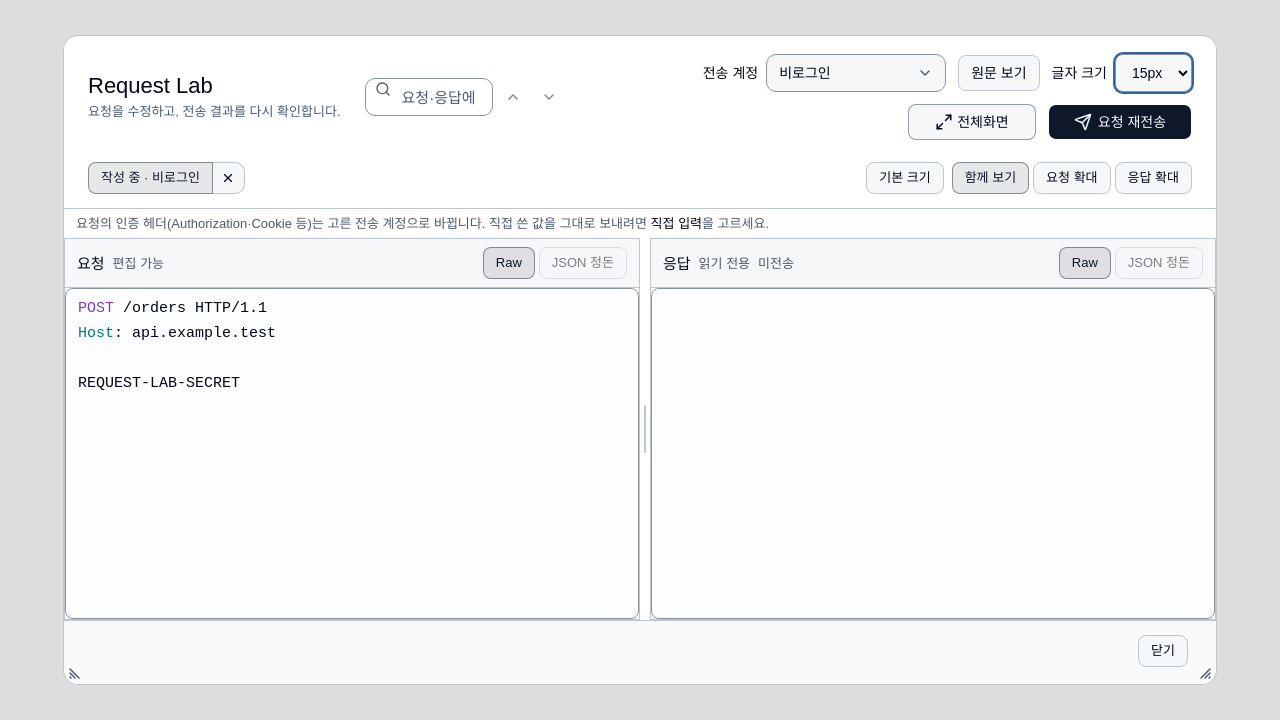
RequestLabDialog › keeps the request untouched and sends credentialMode RAW in 직접 입력 mode
Expected: the text "고른 전송 계정으로 바뀝니다" is shown, left=76, top=216, right=651, bottom=231
Click the dropdown named "전송 계정" at (856, 73), box left=766, top=54, right=946, bottom=92
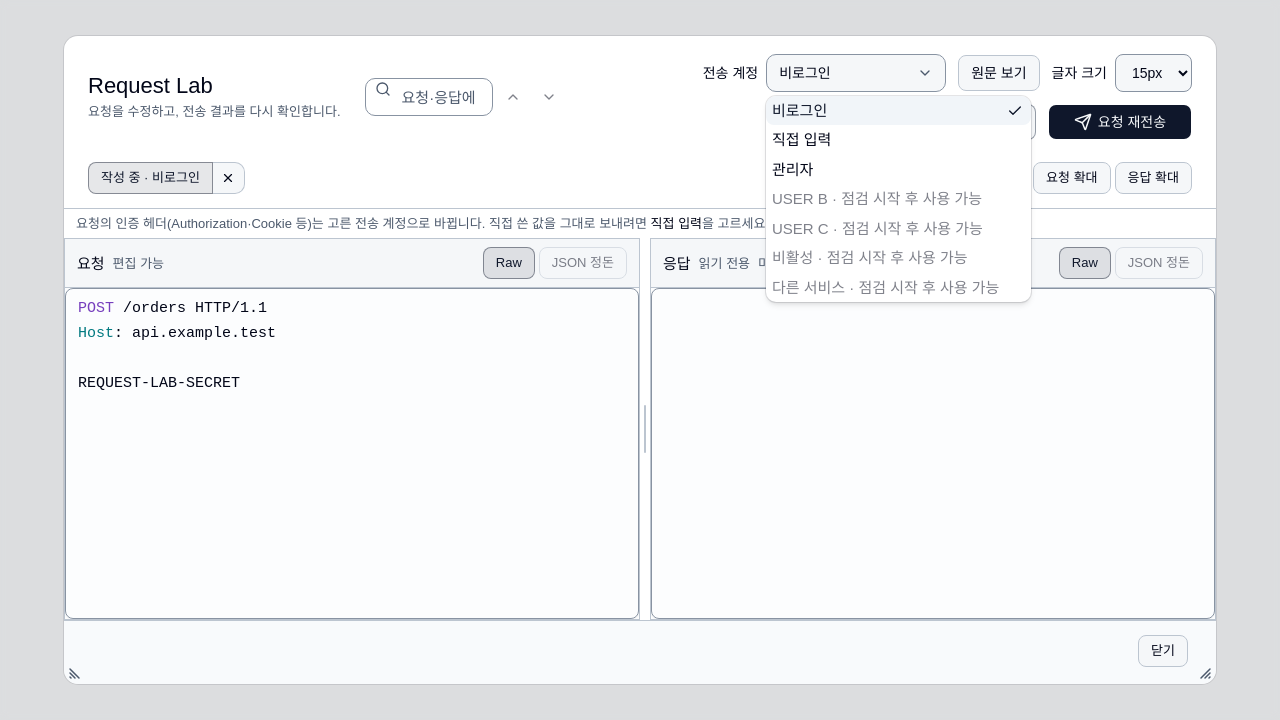
Click the option "직접 입력" at (802, 140), box left=772, top=131, right=831, bottom=148
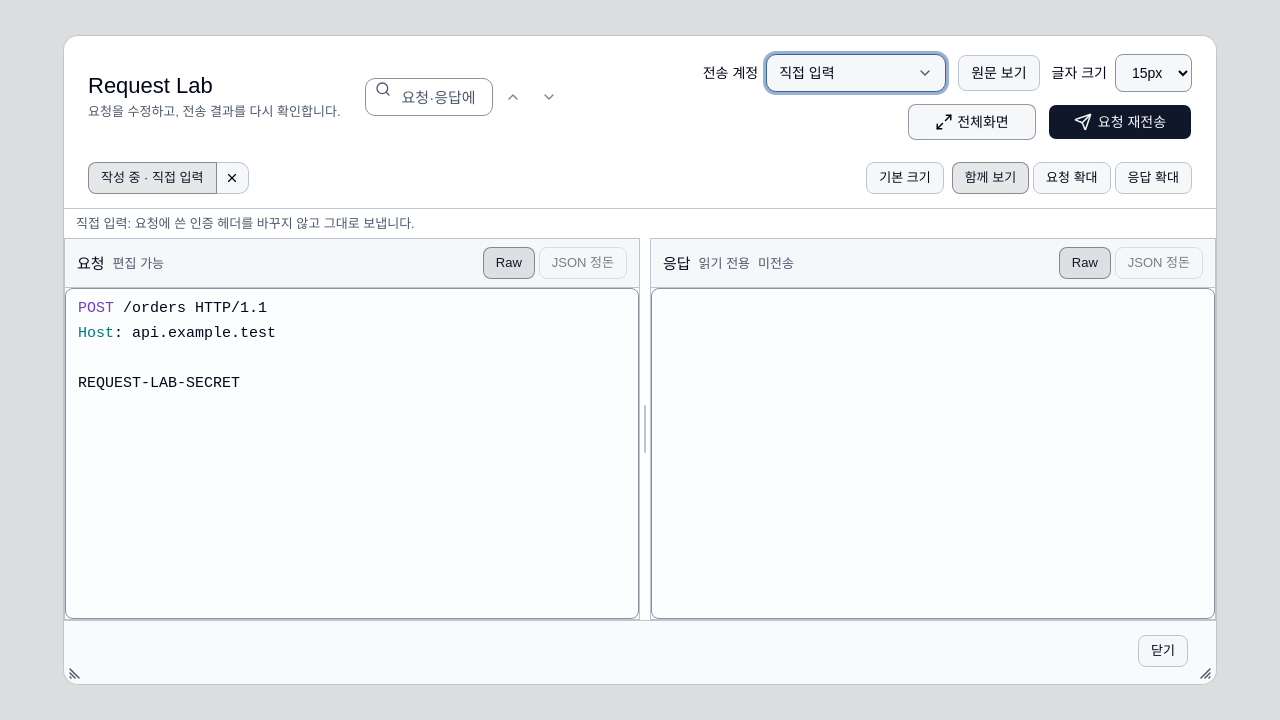
Result: the dropdown named "전송 계정" reads "직접 입력" at left=766, top=54, right=946, bottom=92
Result: the text "직접 입력: 요청에 쓴 인증 헤더를 바꾸지 않고 그대로 보냅니다." is shown at left=76, top=216, right=415, bottom=231
Click the button "요청 재전송" at (1120, 122), box left=1048, top=104, right=1192, bottom=140
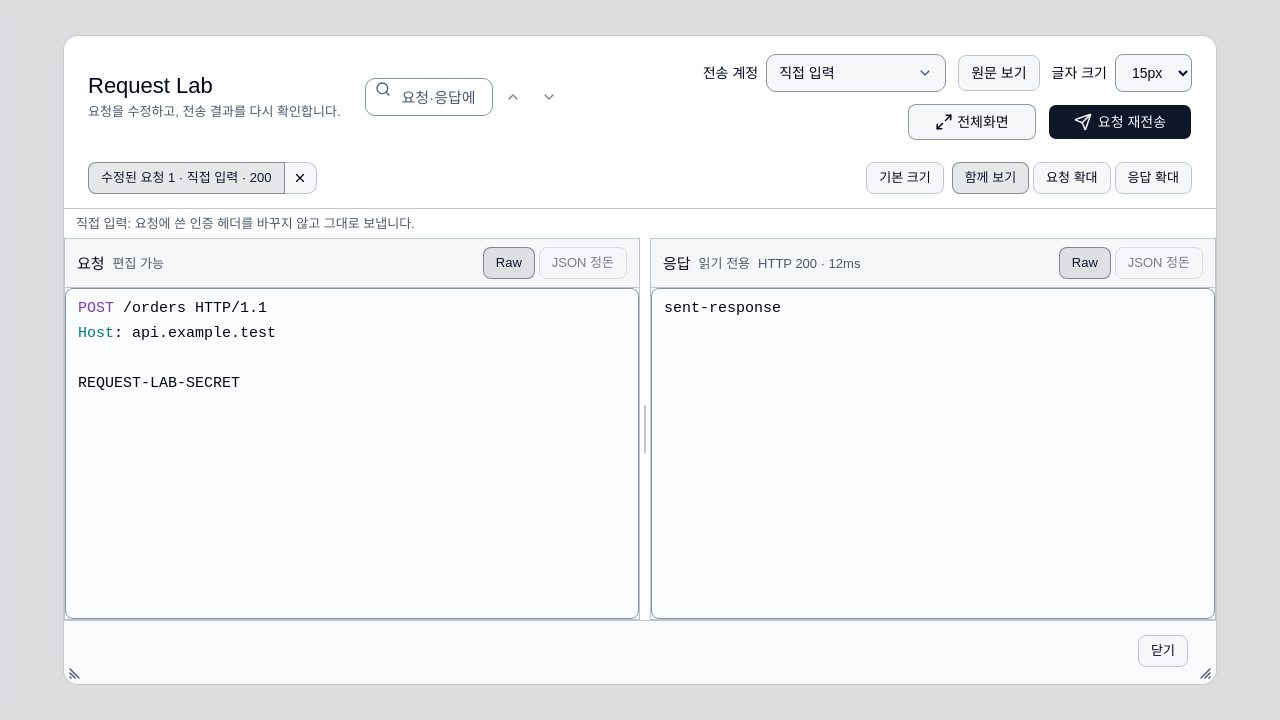
Result: the button "수정된 요청 1 · 직접 입력 · 200" is shown at left=88, top=162, right=284, bottom=194
